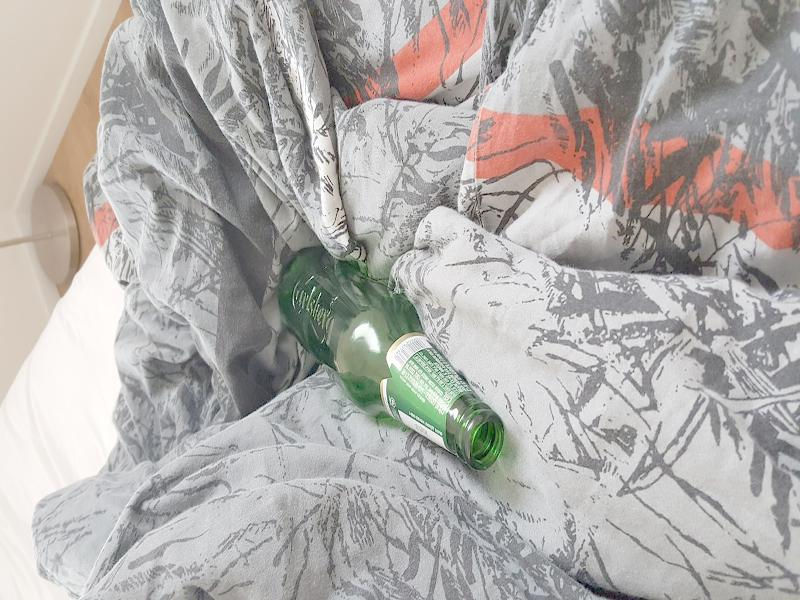Beer: (278, 247, 506, 466)
